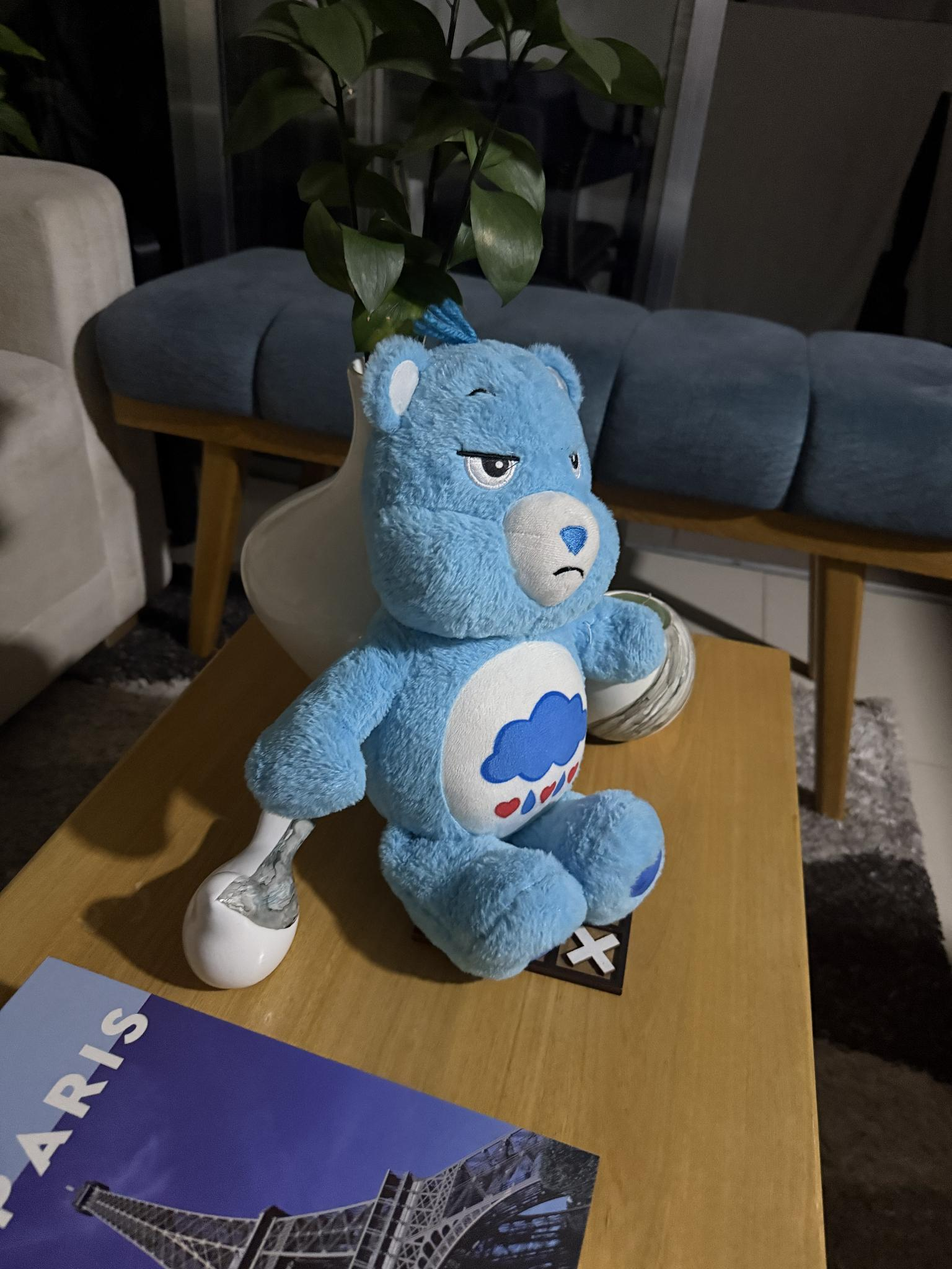peluche_Juan Jose: (244, 320, 669, 980)
